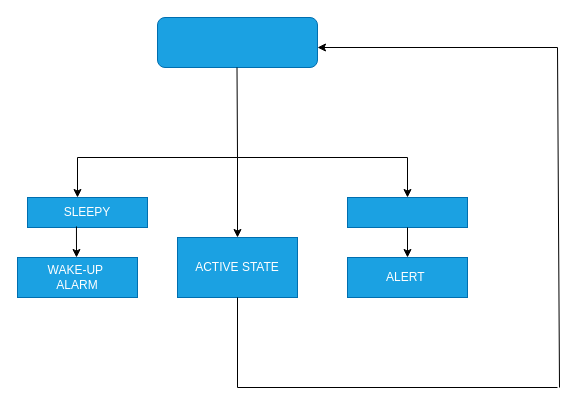
Image size: 583x406. Some labels were removed from this diagram. The shapes that lost their labels are listed below. From the top down, each one's box as (x1, y1, x2, y2) in pixels, then its label:
(156, 16, 318, 68): REAL TIME DETECTION
(346, 196, 468, 228): DROWSY
